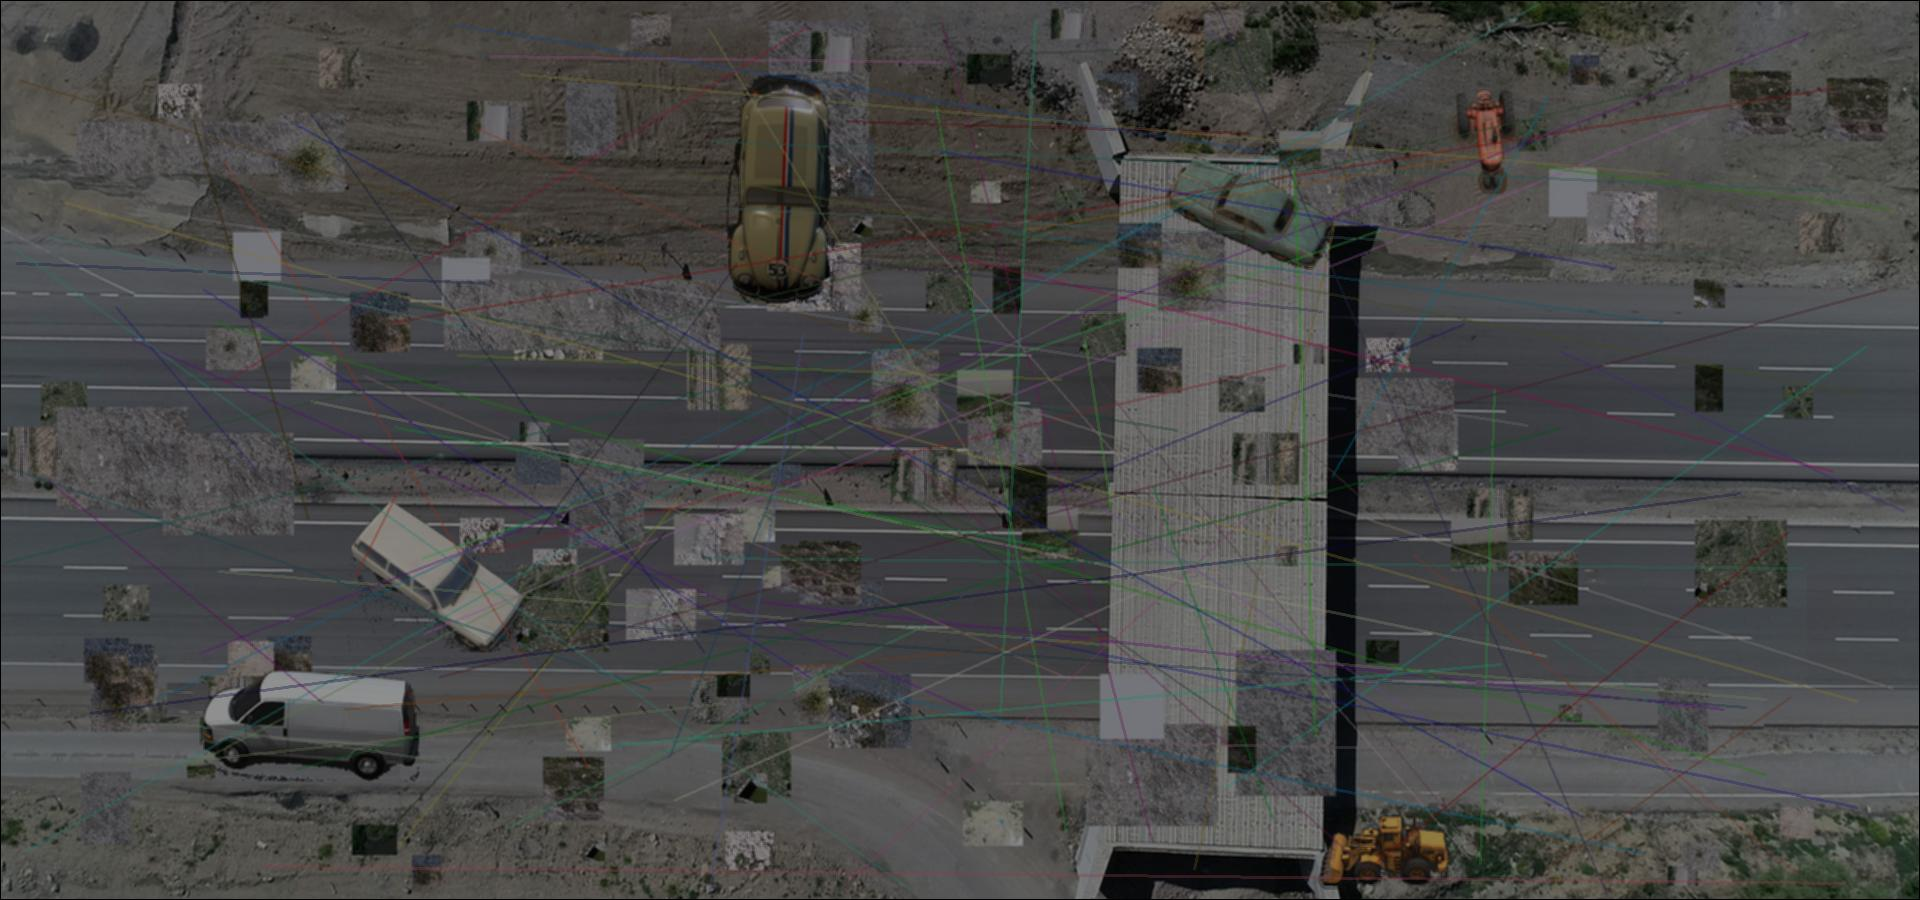arac: (347, 503, 527, 651), (725, 75, 835, 302), (204, 669, 419, 781), (1161, 149, 1335, 271), (1315, 812, 1455, 889), (1449, 89, 1516, 193)
